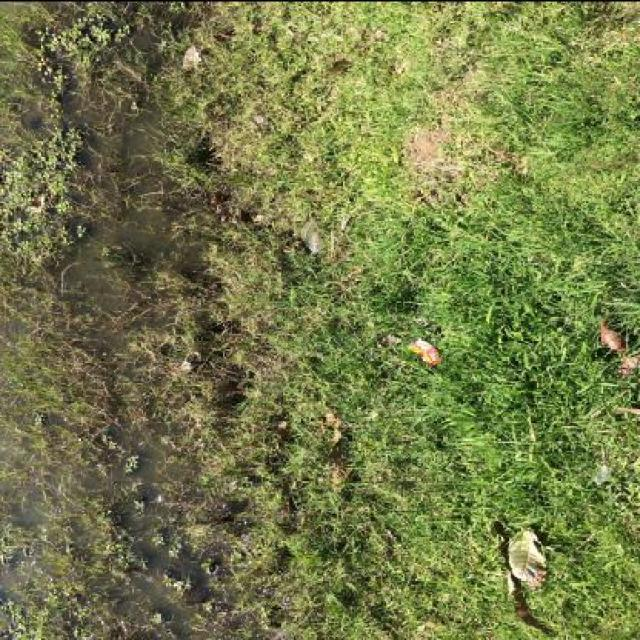plastic: (408, 337, 440, 363)
